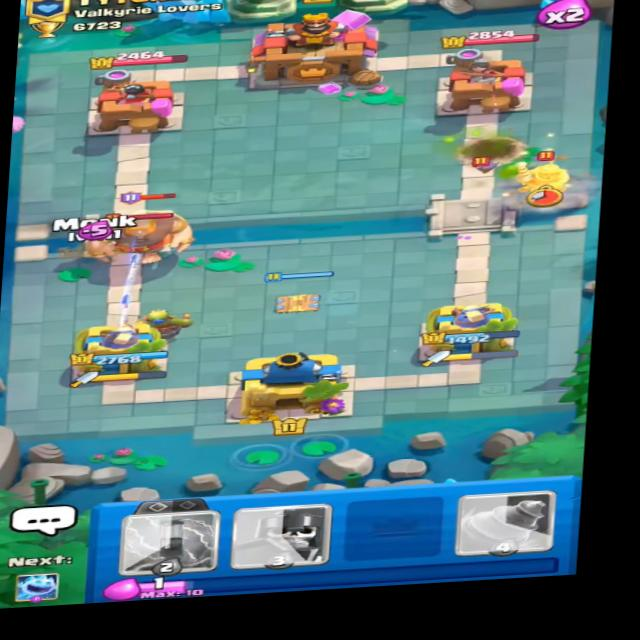bats: (461, 153, 499, 180)
evo-wizard: (113, 192, 192, 230)
giant: (78, 206, 193, 265)
prince: (508, 146, 581, 210)
